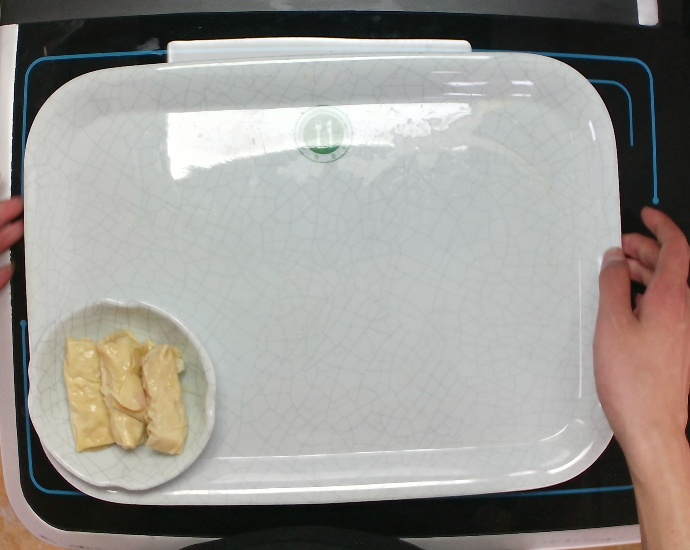JYsf-Ao_Yuan_Wan: (23, 295, 221, 495)
